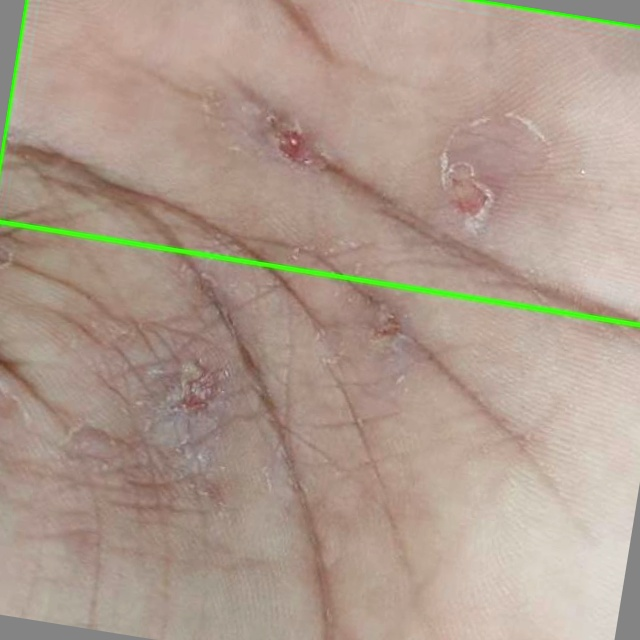Scabies: (0, 0, 639, 325)
